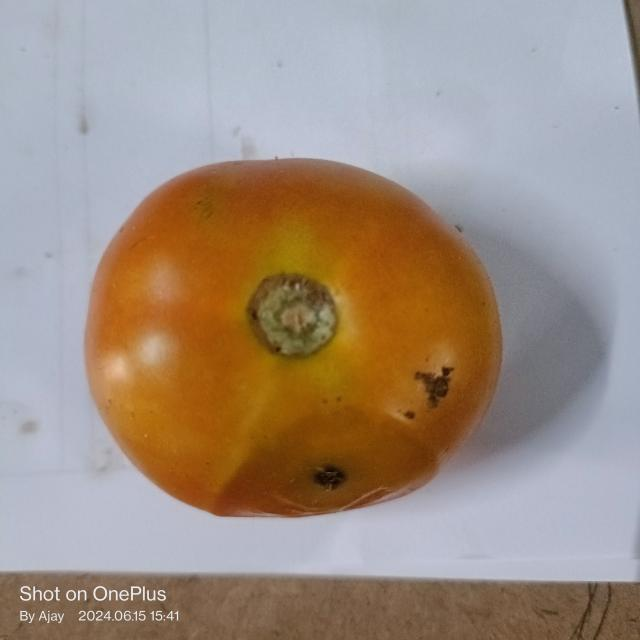Botrytis: (418, 365, 457, 406), (313, 455, 346, 492)
